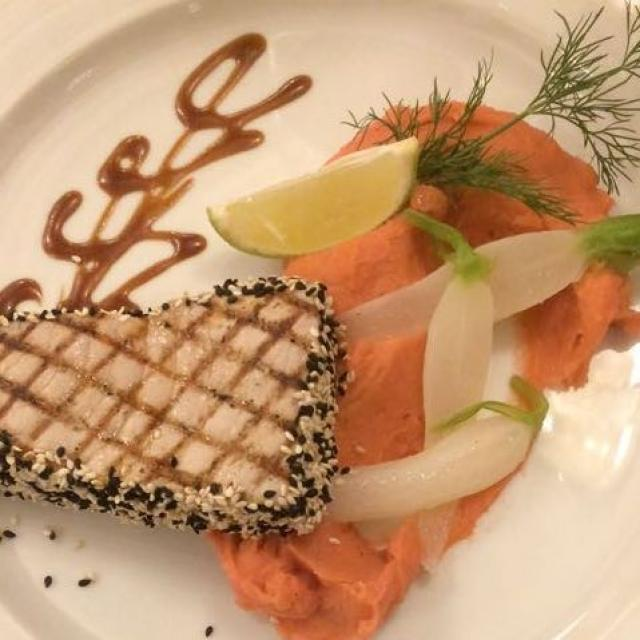radish: (325, 226, 597, 525)
salmon: (214, 106, 614, 627)
sesame-seeds: (5, 280, 342, 539)
tuna: (13, 284, 335, 536)
